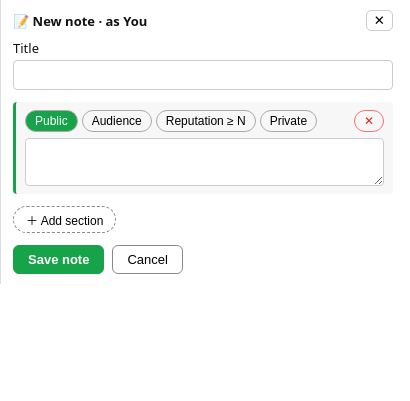
Scenario: add section adds a second card; remove takes it away
Expected: the number of text boxes named "section content" is 1, [25,138,384,186]
Click the button "＋ Add section": coordinates (65, 220) [13,206,116,233]
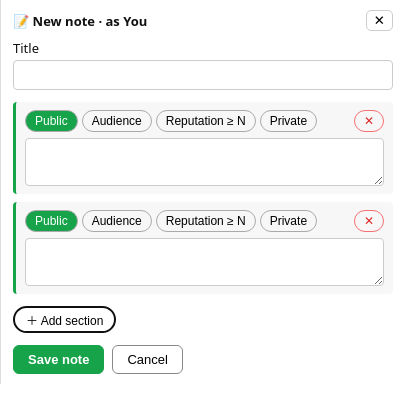
Expected: the number of text boxes named "section content" is 2, [25,138,384,186]; [25,238,384,286]
Click the button named "remove section": coordinates (369, 221) [354,210,384,232]
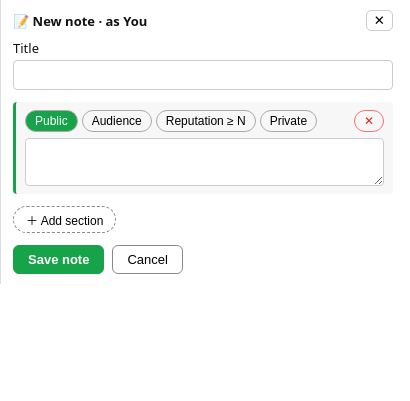
Expected: the number of text boxes named "section content" is 1, [25,138,384,186]
